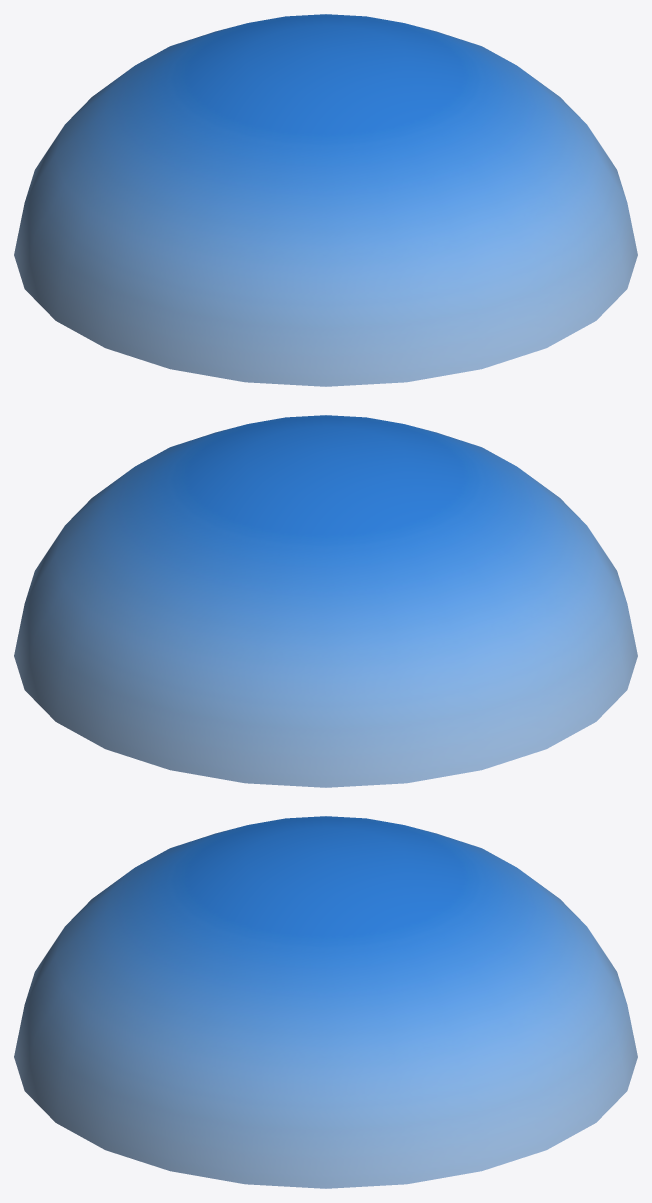
File: sky_02 #947021.fbx
3 views of the same model, one above another, from view 1: azimuth 30°, elevation 25°; view 2: azimuth 150°, elevation 25°; view 3: azimuth 270°, elevation 25° (orthographic).
Parts seen in each view (by area): view 1: sky_02; view 2: sky_02; view 3: sky_02.
Boxes of the visible parts, x1,y1,x2,y2 form: sky_02: [14, 14, 637, 386]; sky_02: [14, 415, 637, 787]; sky_02: [14, 816, 637, 1188].
Bounding box in the file's own units: 2106 × 752 × 2106.
Materials: 1 (1 with a texture image).
